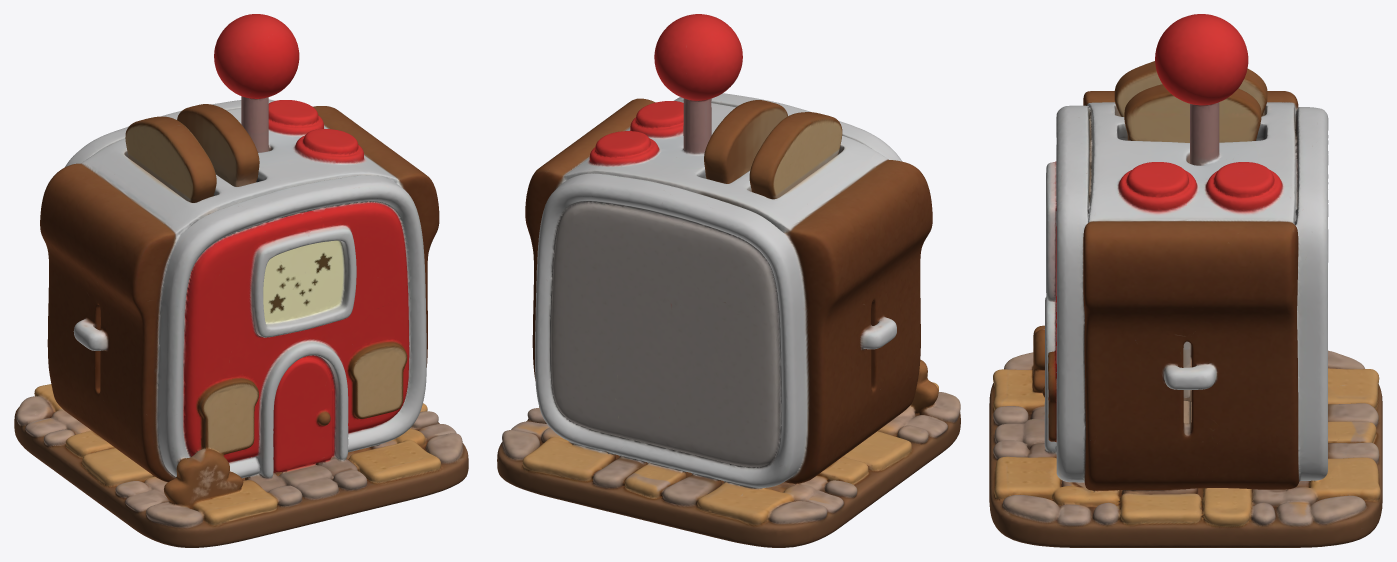
The model's file is arcade-duel.glb.
3 views of the same model, side by side, from view 1: azimuth 30°, elevation 25°; view 2: azimuth 150°, elevation 25°; view 3: azimuth 270°, elevation 25° (orthographic). The views are drawn at different scales.
Parts seen in each view (by area): view 1: Mesh_0; view 2: Mesh_0; view 3: Mesh_0.
Part boxes in pixels (box(x1,y1,x2,y2)): Mesh_0: box(14, 14, 468, 547); Mesh_0: box(497, 14, 960, 547); Mesh_0: box(989, 14, 1382, 547).
Size of the model in its own units: 1.5 by 1.9 by 1.47.
1 material, 1 textured.
